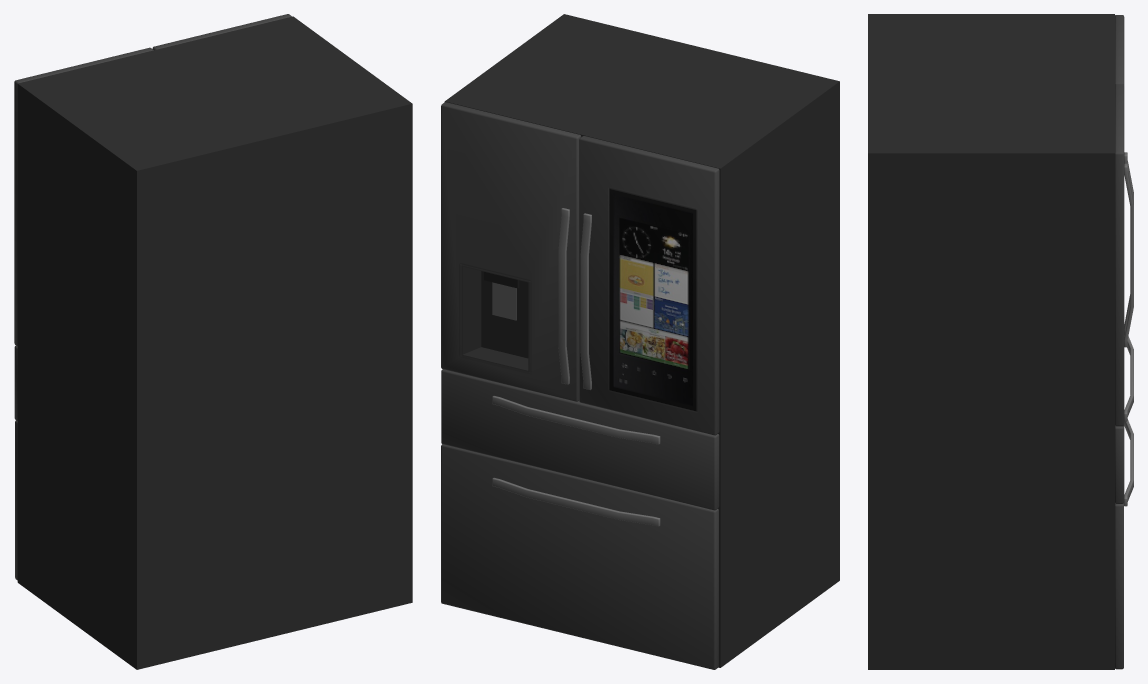
File: refrigerator.FBX
3 renders of one model, left to right at view 1: azimuth 30°, elevation 25°; view 2: azimuth 150°, elevation 25°; view 3: azimuth 270°, elevation 25°, orthographic. The views are drawn at different scales.
Visible parts, largest first — view 1: refrigerator; view 2: refrigerator; view 3: refrigerator.
Part boxes in pixels (x1,y1,x2,y2): refrigerator: [14, 14, 412, 669]; refrigerator: [441, 14, 839, 669]; refrigerator: [868, 14, 1133, 669].
Size of the model in its own units: 36.99 by 29.86 by 64.01.
1 material, 1 textured.
